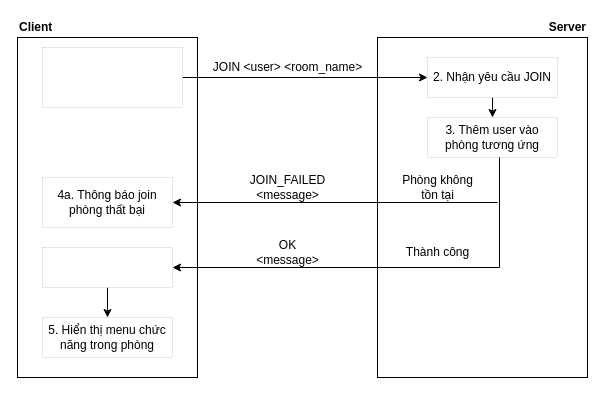
The diagram is 605 pixels wide and 395 high, and some of its shapes have lost their labels. Each missing label, with the centre of its shape:
1. Yêu cầu tham gia phòng với username, roomName: pixel 112 77
4b. Thông báo join phòng thành công: pixel 107 267
